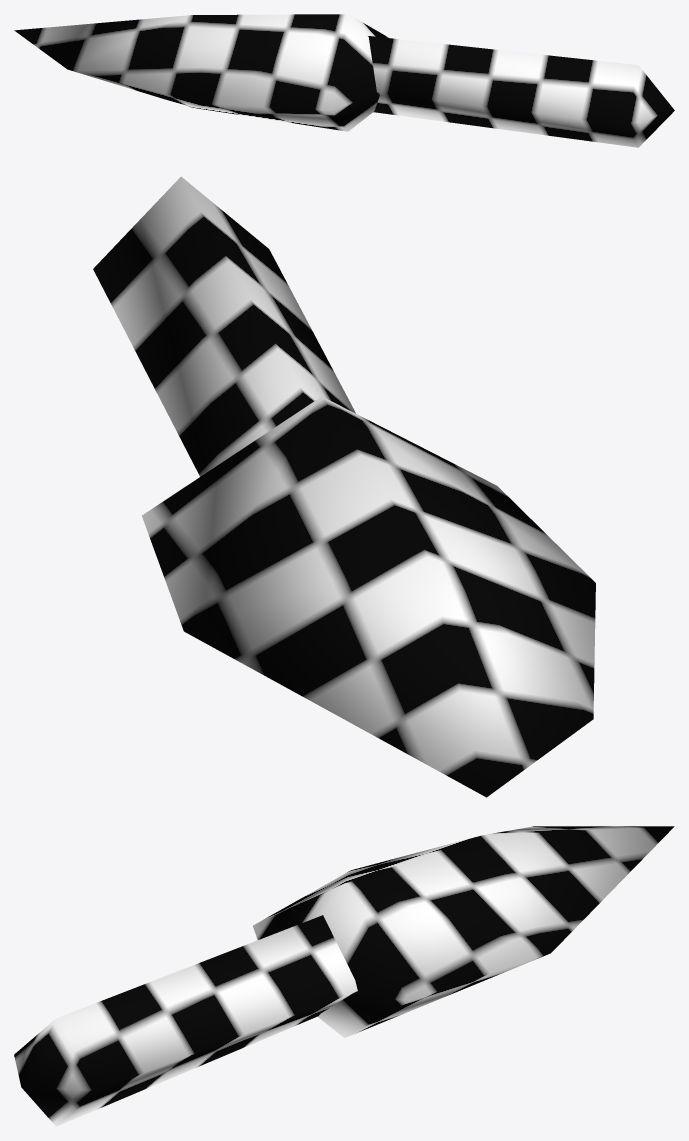
The model's file is initwedg1.dae.
The picture shows the model from 3 angles, top to bottom: view 1: azimuth 30°, elevation 25°; view 2: azimuth 150°, elevation 25°; view 3: azimuth 270°, elevation 25°; orthographic projection. The views are drawn at different scales.
Parts seen in each view (by area): view 1: weapon; view 2: weapon; view 3: weapon.
Part boxes in pixels (box(x1,y1,x2,y2)): weapon: box(14, 14, 674, 147); weapon: box(93, 176, 595, 797); weapon: box(14, 826, 674, 1126).
Size of the model in its own units: 1.12 by 1.18 by 0.303.
Materials: 1 (1 with a texture image).
